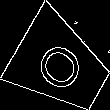O_SE: (31, 34, 91, 97)
